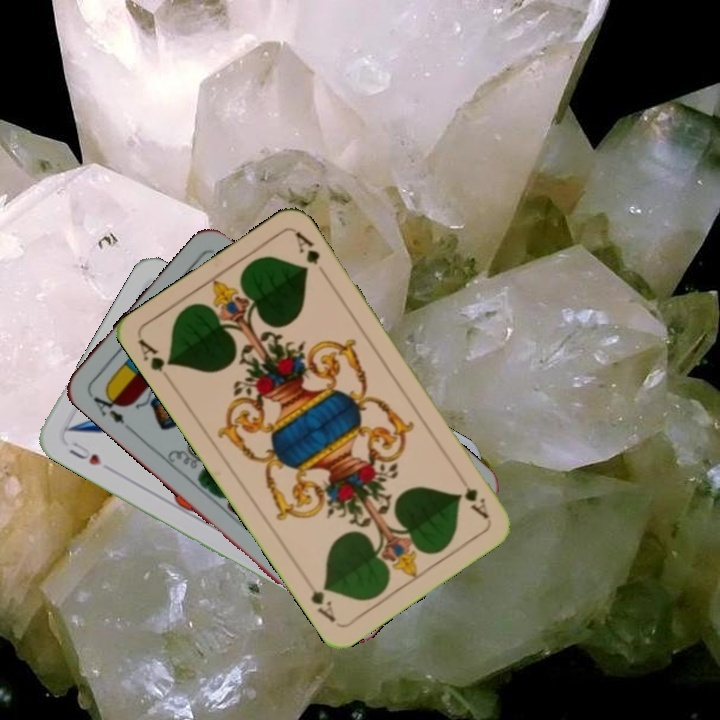EA: (89, 386, 128, 426)
GA: (134, 335, 176, 375), (460, 483, 492, 522)
HU: (65, 437, 104, 468)
